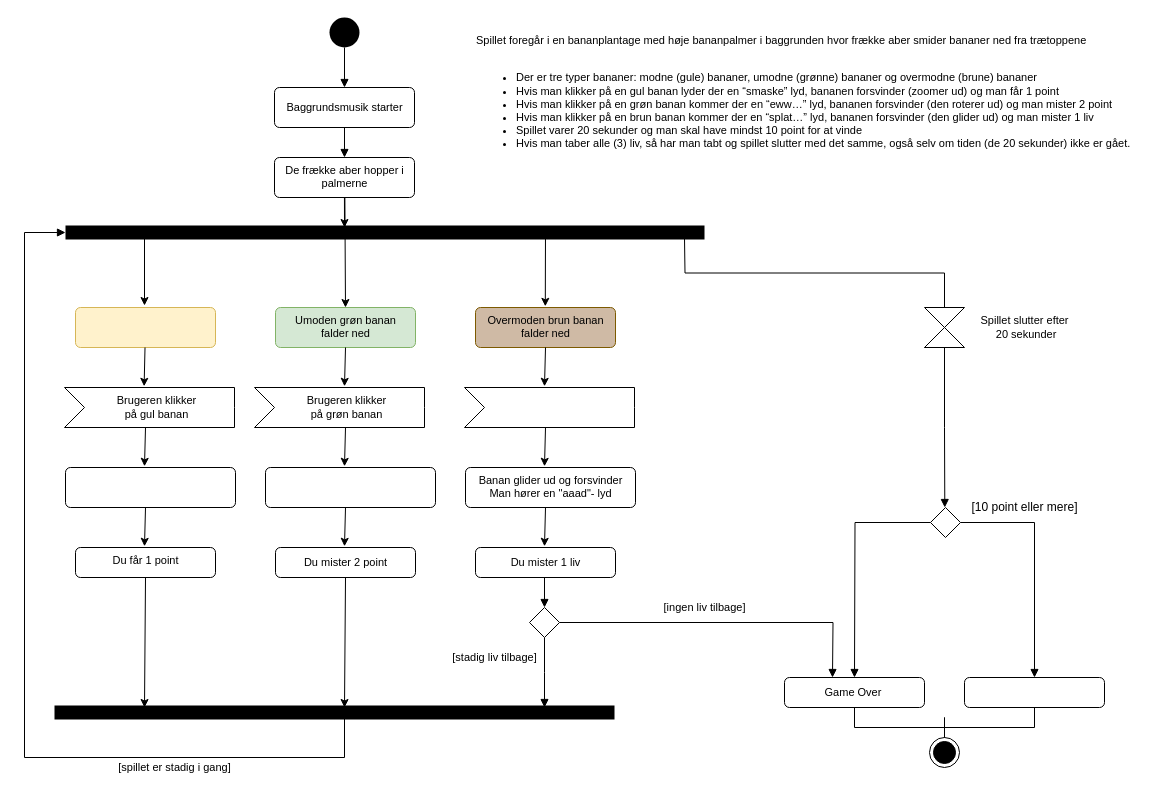
The diagram is 1172 pixels wide and 794 high, and some of its shapes have lost their labels. Here are the shapes that lost their labels. From the top down, the box of each, then its label:
(74, 306, 216, 348): Moden gul banan falder ned
(464, 386, 634, 428): Brugeren klikker på brun banan
(64, 466, 236, 508): Banan zoomer ud og forsvinder Man hører en smaske-lyd
(264, 466, 436, 508): Banan roterer og forsvinder Man hører en "euvw"- lyd
(964, 676, 1104, 708): Level Complete
